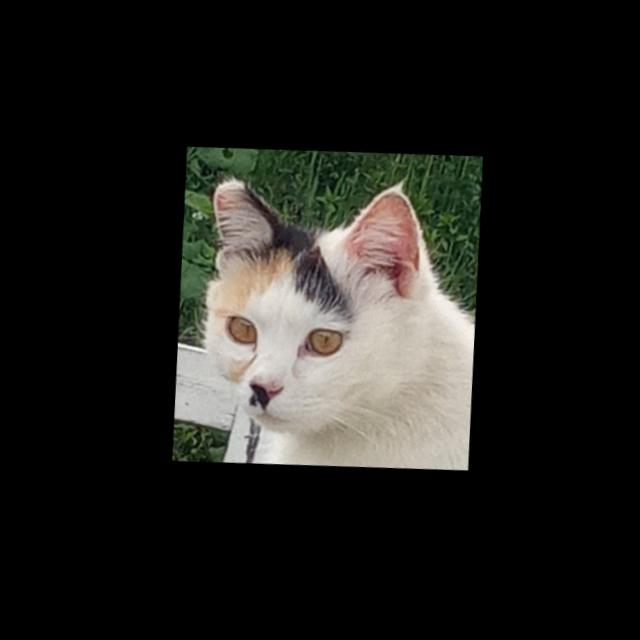animals: (186, 166, 452, 461)
